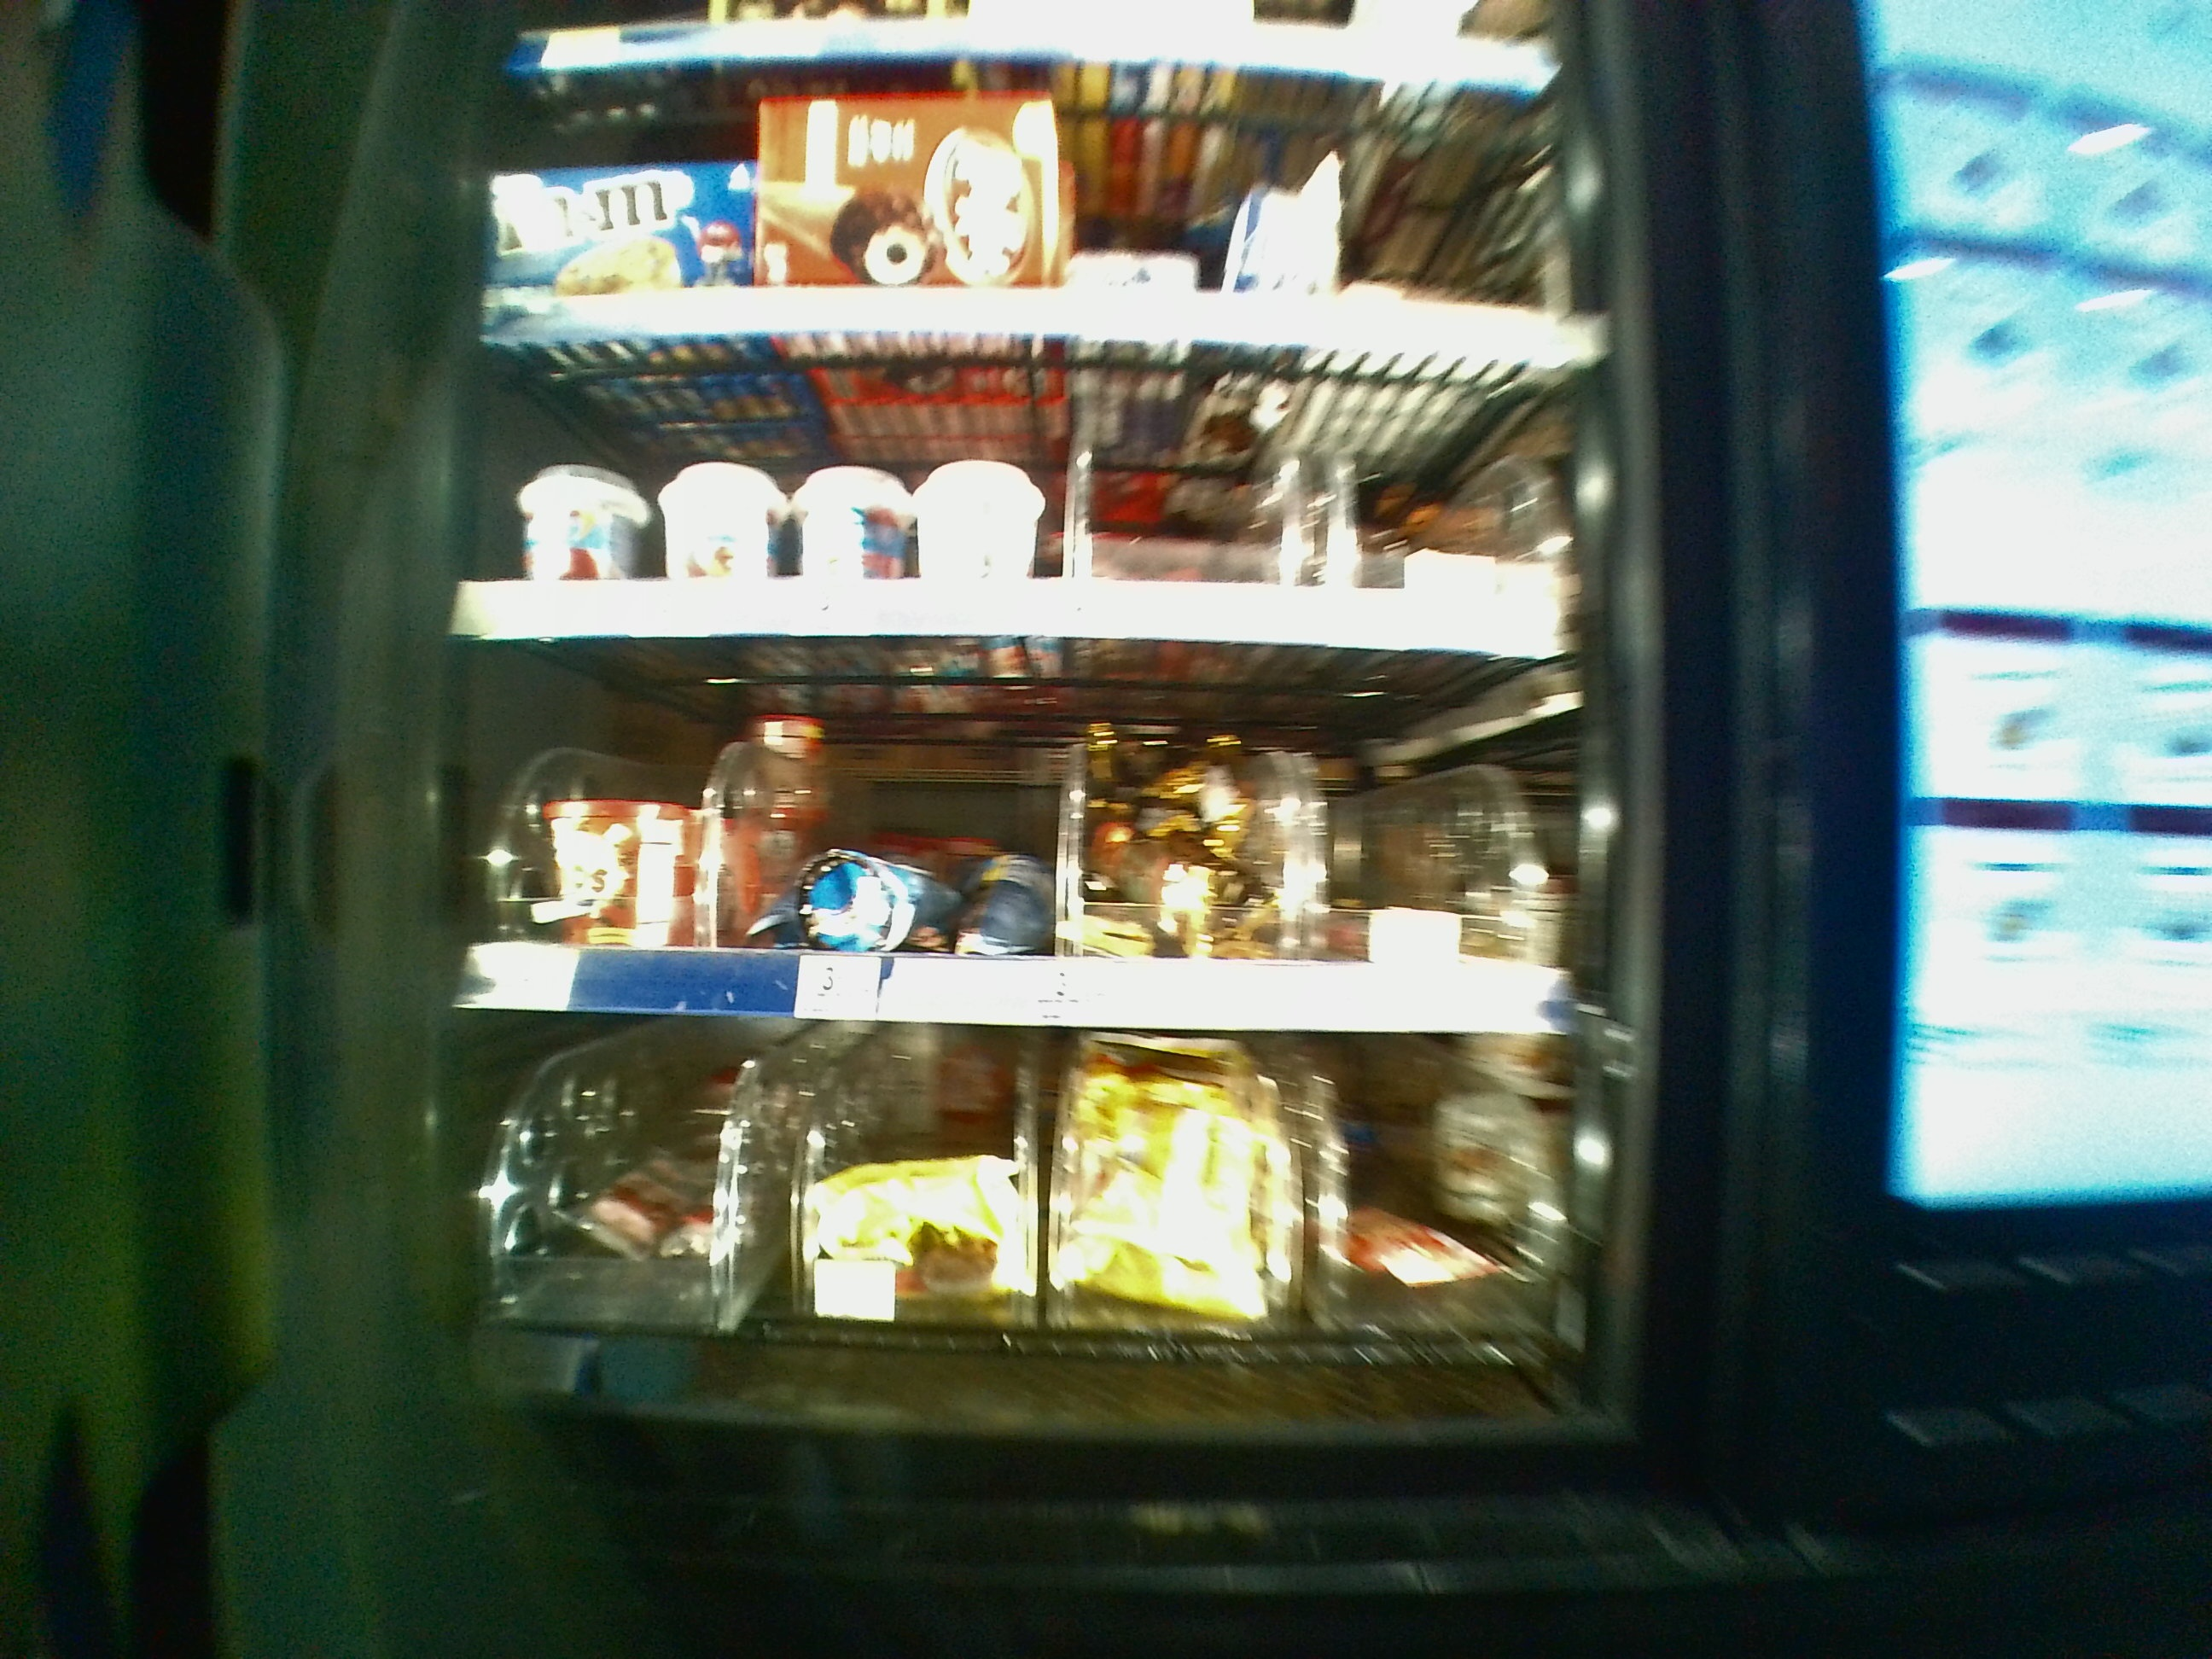shelf: (460, 1019, 1594, 1436), (449, 643, 1599, 1018), (460, 347, 1594, 636), (474, 73, 1588, 340)
